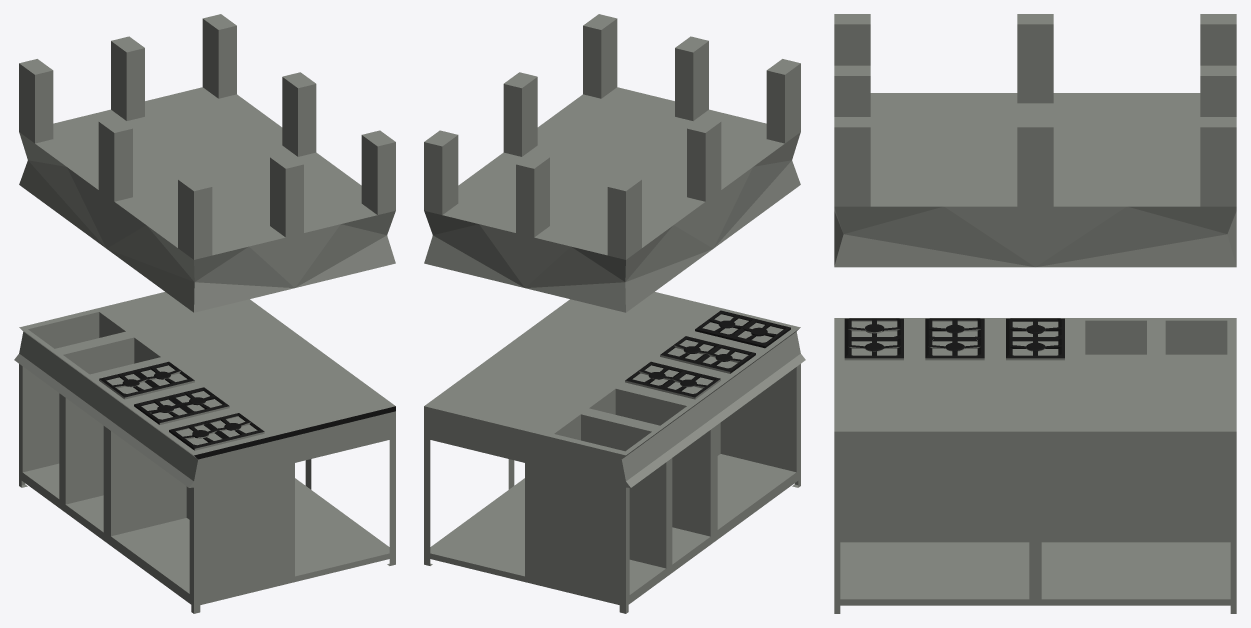
The model's file is mesa_centro.obj.
3 renders of one model, left to right at view 1: azimuth 30°, elevation 25°; view 2: azimuth 150°, elevation 25°; view 3: azimuth 270°, elevation 25°, orthographic. The views are drawn at different scales.
Visible parts, largest first — view 1: Cube; view 2: Cube; view 3: Cube.
Part boxes in pixels (x1,y1,x2,y2): Cube: (14,14,395,613); Cube: (424,14,805,613); Cube: (834,14,1236,613).
Size of the model in its own units: 2.05 by 4 by 3.
